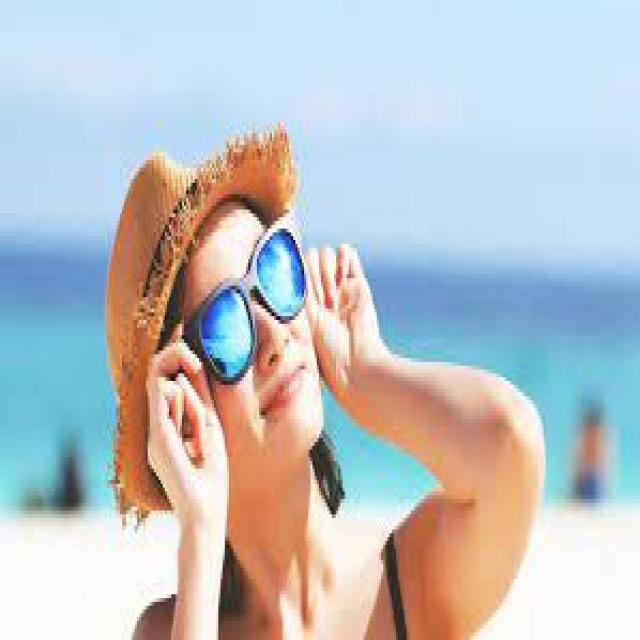hat: (71, 114, 276, 492)
